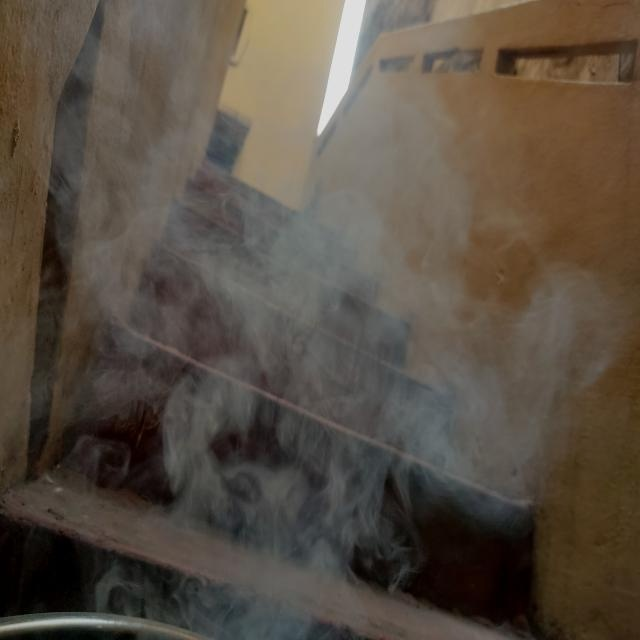smoke: (226, 124, 510, 485)
